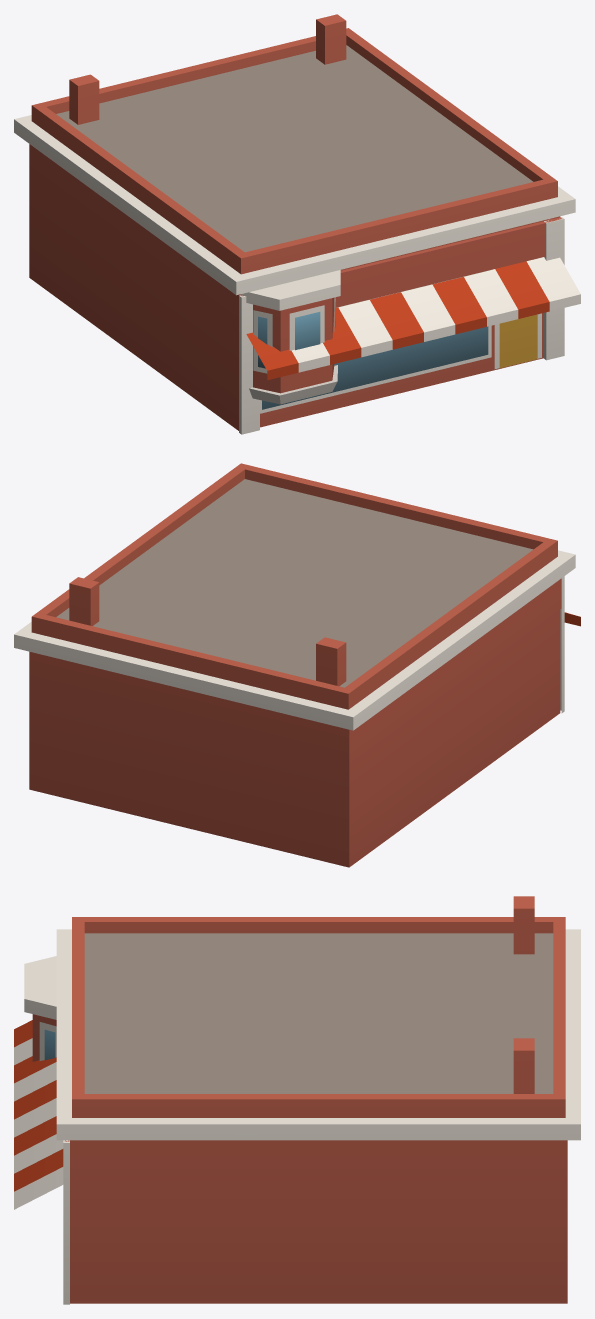
The model's file is vee_right2_far.glb.
The picture shows the model from 3 angles, top to bottom: view 1: azimuth 30°, elevation 25°; view 2: azimuth 150°, elevation 25°; view 3: azimuth 270°, elevation 25°; orthographic projection. The views are drawn at different scales.
Parts seen in each view (by area): view 1: vee_right2_far; view 2: vee_right2_far; view 3: vee_right2_far.
Part boxes in pixels (x1=…): vee_right2_far: x1=14, y1=14, x2=580, y2=434; vee_right2_far: x1=14, y1=463, x2=580, y2=867; vee_right2_far: x1=14, y1=896, x2=580, y2=1304.
Size of the model in its own units: 11.14 by 6.34 by 13.67.
Materials: 1 (1 with a texture image).
